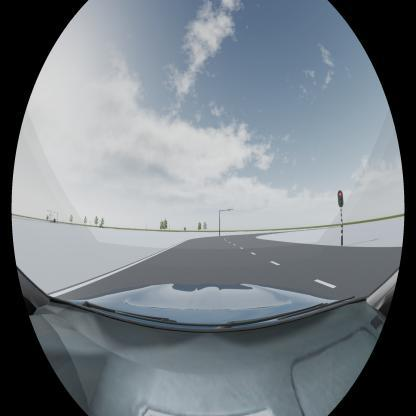Red Light: (338, 189, 344, 208)
